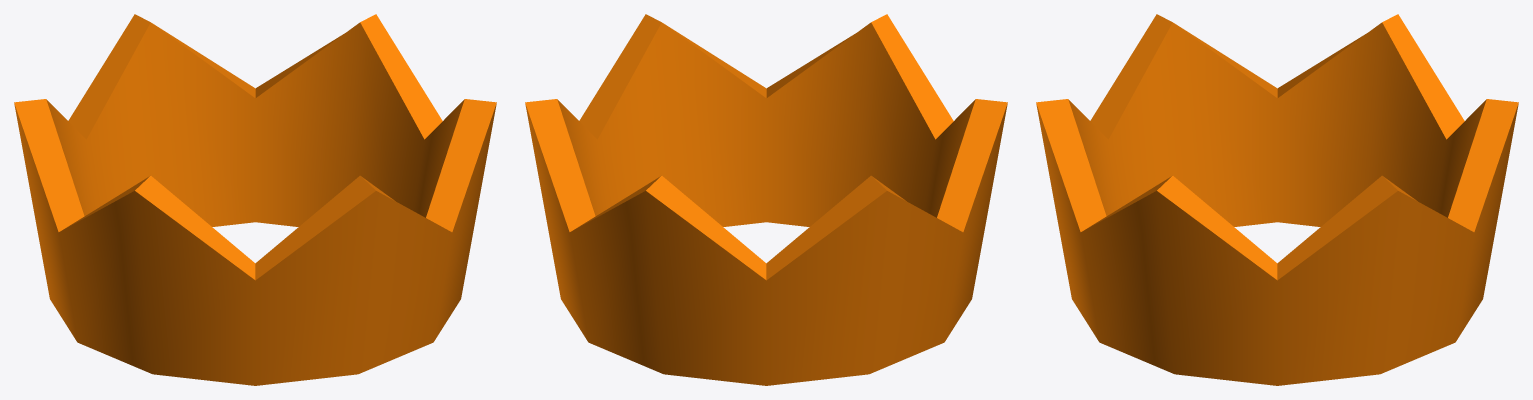
File: Crown.fbx
The picture shows the model from 3 angles, left to right: view 1: azimuth 30°, elevation 25°; view 2: azimuth 150°, elevation 25°; view 3: azimuth 270°, elevation 25°; orthographic projection.
Visible parts, largest first — view 1: Crown; view 2: Crown; view 3: Crown.
Boxes of the visible parts, bbox=[...] form: Crown: bbox=[14, 14, 496, 385]; Crown: bbox=[525, 14, 1007, 385]; Crown: bbox=[1036, 14, 1518, 385].
Size of the model in its own units: 54.49 by 26.49 by 57.89.
